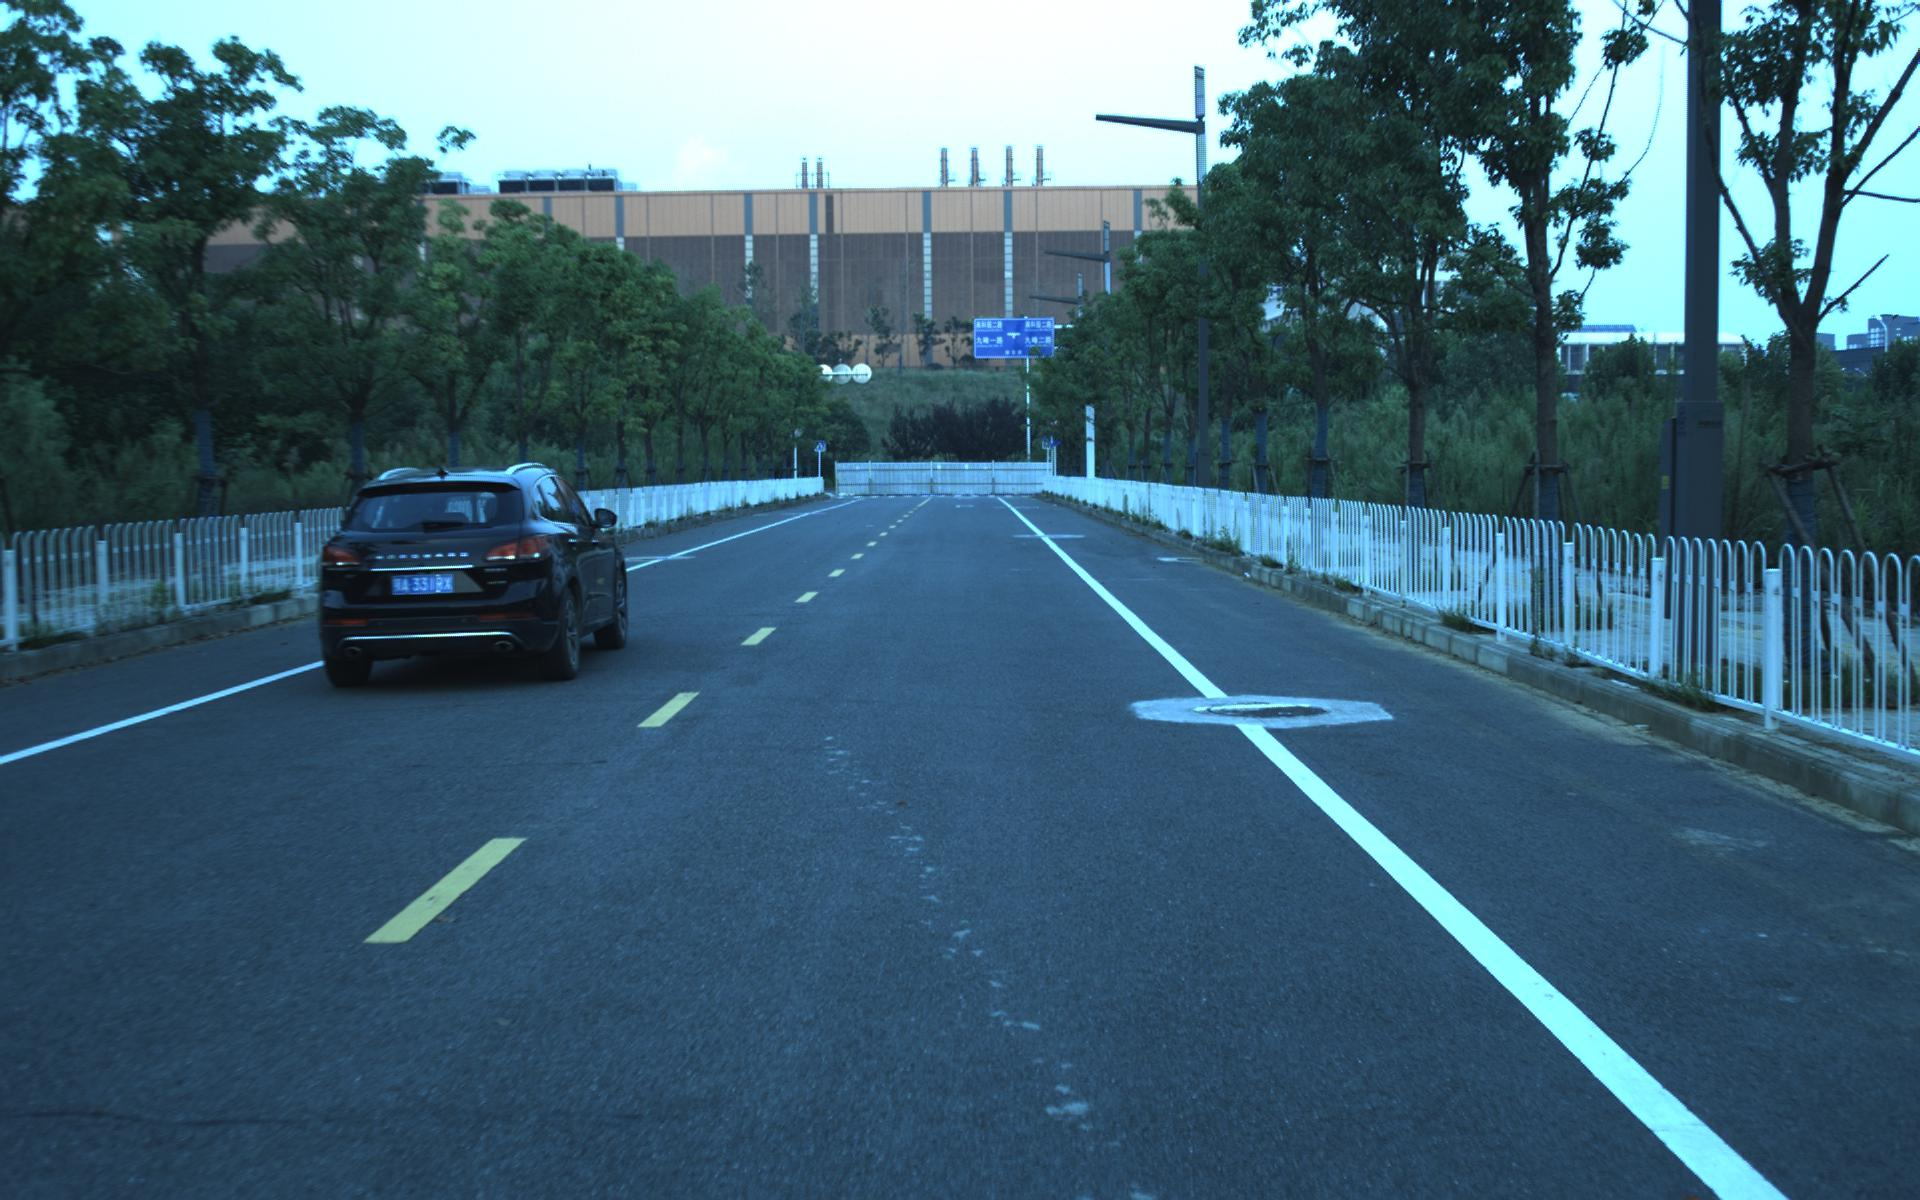Car: (301, 456, 636, 687)
